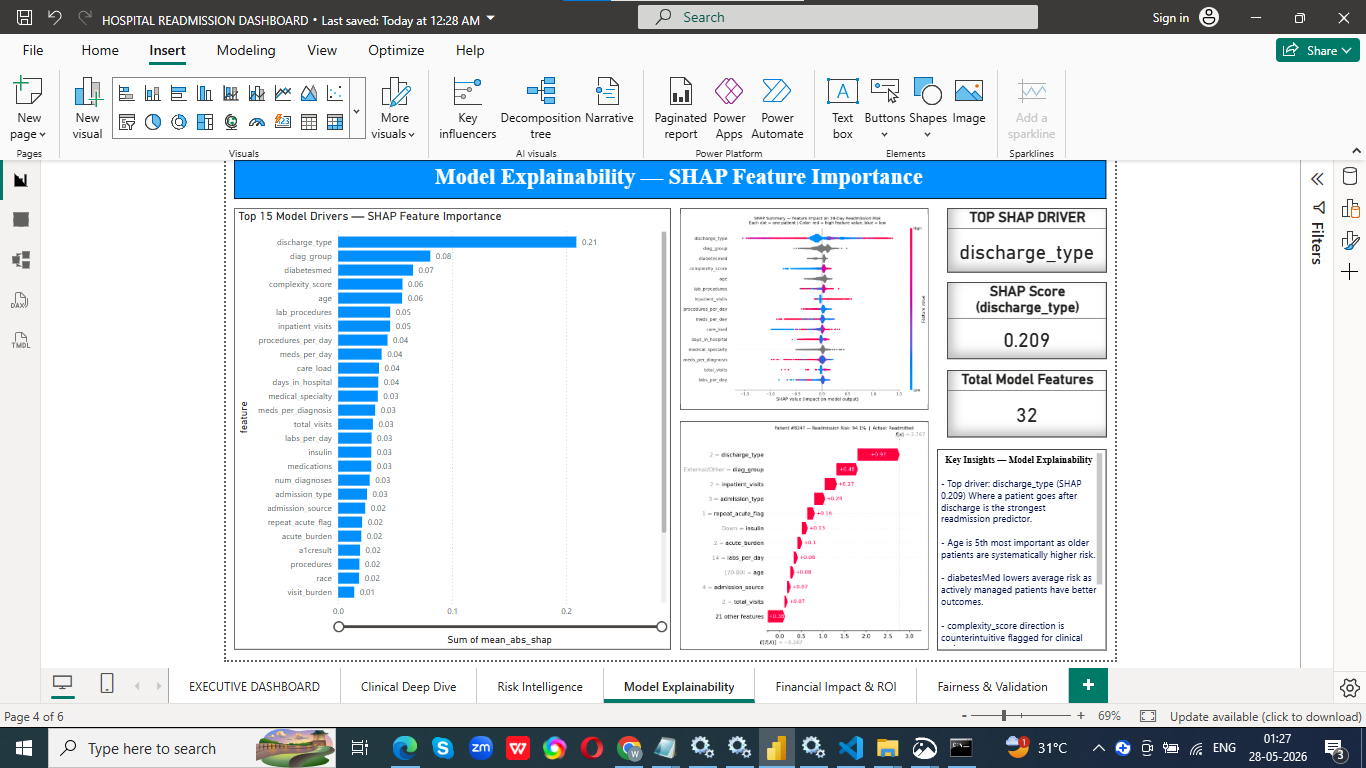

What the dashboard file says about the page in this screenshot:
{"tool":"powerbi","page":{"name":"Model Explainability","canvas":[1280,720],"ordinal":3},"visuals":[{"type":"textbox","box":[10.9,0,1256.4,56.2],"z":0},{"type":"clusteredBarChart","title":"Top 15 Model Drivers — SHAP Feature Importance","fields":{"Category":["shap_feature_importance.feature"],"Y":["Sum(shap_feature_importance.mean_abs_shap)"]},"box":[10.9,68.9,629.1,636.4],"z":1000},{"type":"image","box":[653.2,68.5,358.2,291.5],"z":2000},{"type":"image","box":[653.2,375.7,358.2,330.1],"z":3000},{"type":"card","title":"TOP SHAP DRIVER","fields":{"Values":["shap_feature_importance.Top Feature"]},"box":[1037.7,68.5,230,93.1],"z":4000},{"type":"card","title":"SHAP Score (discharge_type)","fields":{"Values":["shap_feature_importance.Top SHAP Value"]},"box":[1037.7,175.6,230,110.6],"z":5000},{"type":"card","title":"Total Model Features","fields":{"Values":["shap_feature_importance.Features Used"]},"box":[1037.7,302,230,96.6],"z":6000},{"type":"textbox","box":[1023.6,416.1,244.1,289.7],"z":7000}]}

Visuals, with their boxes on the page's 1280x720 design canvas (x1, y1, x2, y2). These are canvas units, not pixel positions in the 1366x768 screenshot, which may show the page scaled, cropped or inside an application window:
textbox: (11, 0, 1267, 56)
"Top 15 Model Drivers — SHAP Feature Importance" clusteredBarChart: (11, 69, 640, 705)
image: (653, 68, 1011, 360)
image: (653, 376, 1011, 706)
"TOP SHAP DRIVER" card: (1038, 68, 1268, 162)
"SHAP Score (discharge_type)" card: (1038, 176, 1268, 286)
"Total Model Features" card: (1038, 302, 1268, 399)
textbox: (1024, 416, 1268, 706)
